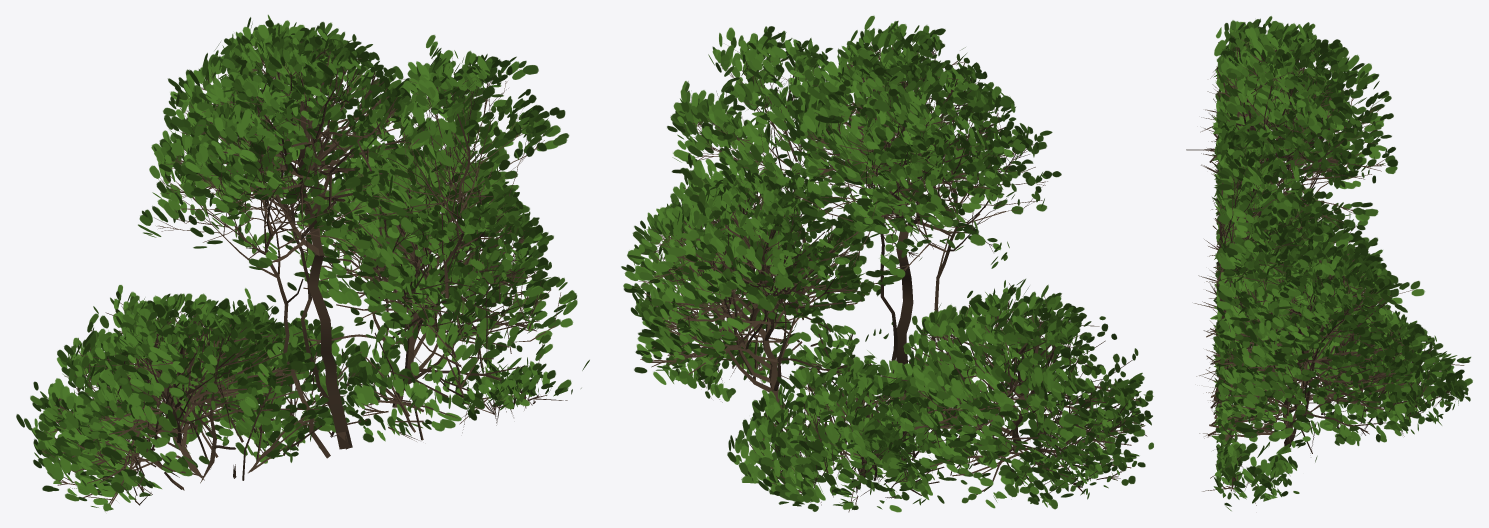
3 renders of one model, left to right at view 1: azimuth 30°, elevation 25°; view 2: azimuth 150°, elevation 25°; view 3: azimuth 270°, elevation 25°, orthographic. The views are drawn at different scales.
Parts seen in each view (by area): view 1: oak 01.001_trunk_Mat.001_0.239; view 2: oak 01.001_trunk_Mat.001_0.239; view 3: oak 01.001_trunk_Mat.001_0.239.
Part boxes in pixels (x1,y1,x2,y2): oak 01.001_trunk_Mat.001_0.239: (16,15,589,511); oak 01.001_trunk_Mat.001_0.239: (621,15,1153,512); oak 01.001_trunk_Mat.001_0.239: (1186,16,1472,511).
Size of the model in its own units: 3.89 by 3.11 by 2.09.
2 materials, 1 textured.
